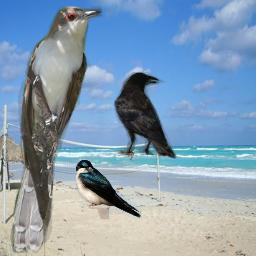Crow: (114, 72, 177, 161)
Cuckoo: (10, 3, 103, 253)
Swallow: (75, 159, 142, 219)
